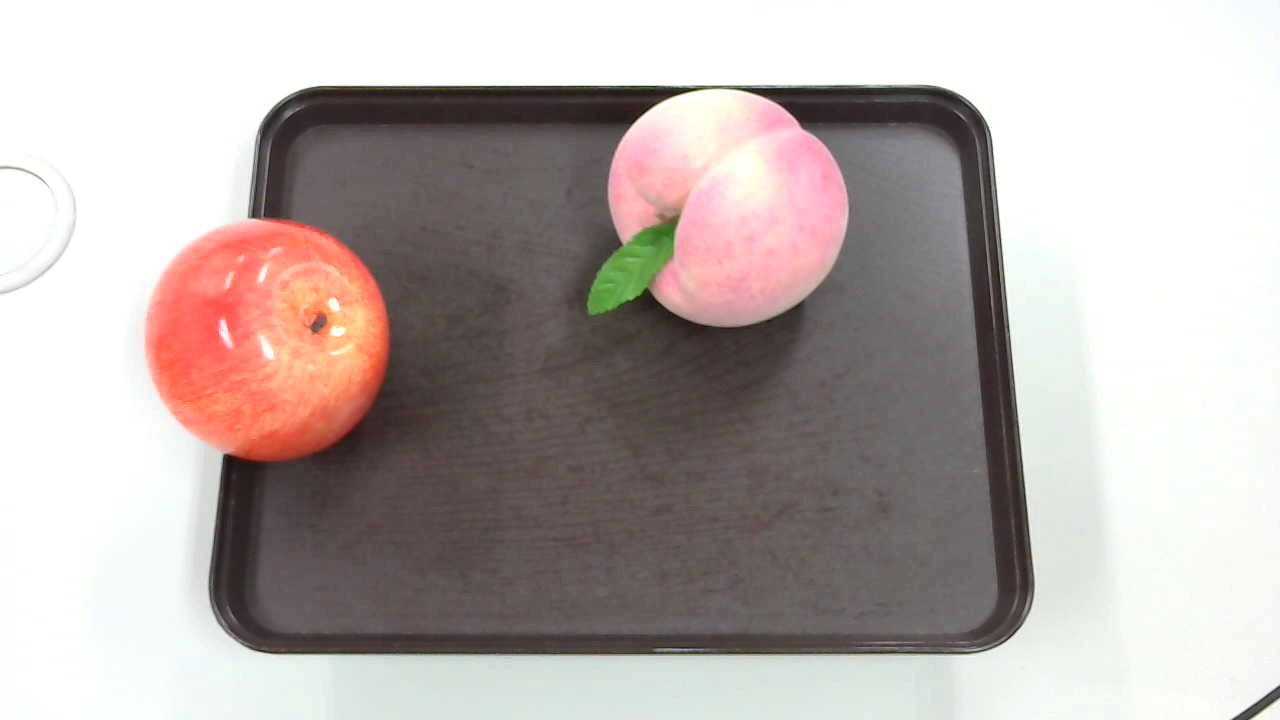peach: (580, 84, 849, 335)
red apple: (144, 213, 396, 463)
